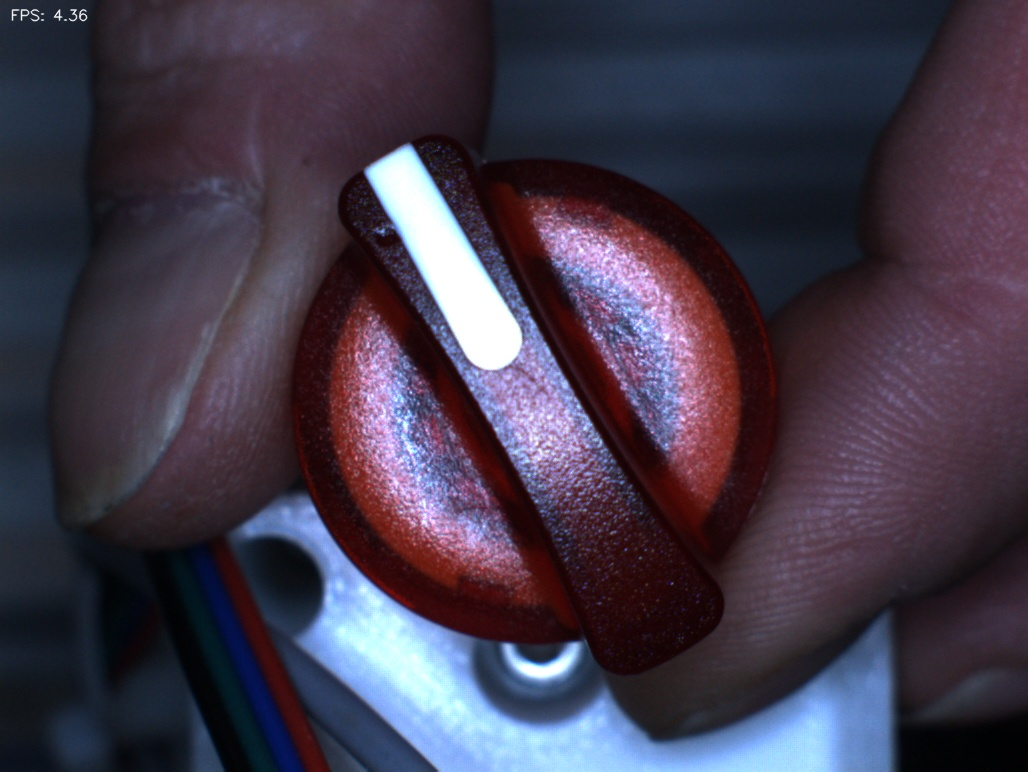Choc: (344, 196, 424, 276)
